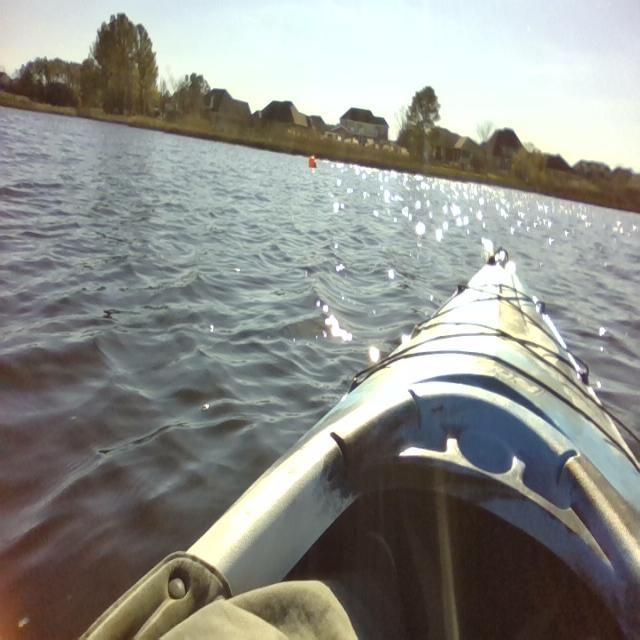Buoy: (306, 152, 319, 173)
